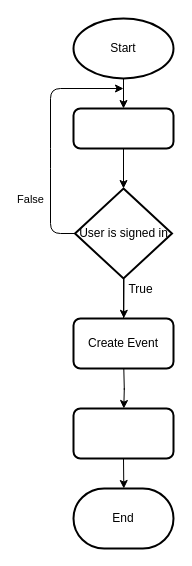
Some shapes in this 192 by 566 pixel diagram are drawn without their labels. Here are the shapes that lost their labels. From the top down, the centre of each, then its label:
At point (123, 128): "Sign In".
At point (123, 433): "Add Items/Expenses".
